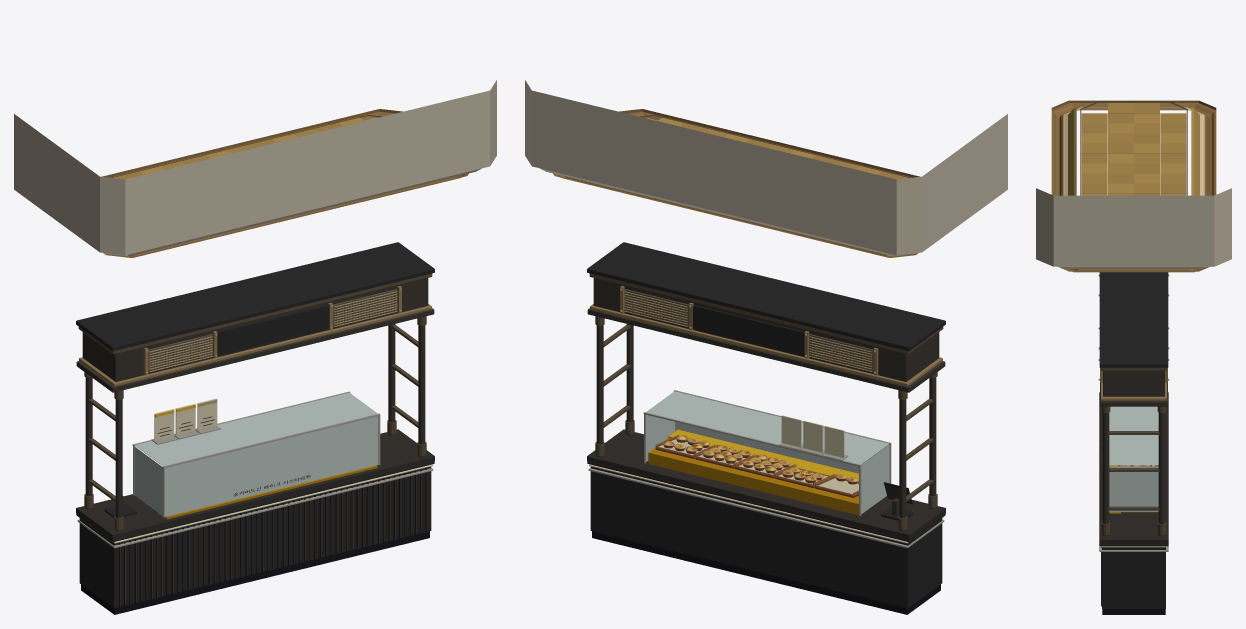
The model's file is counter.glb.
3 views of the same model, side by side, from view 1: azimuth 30°, elevation 25°; view 2: azimuth 150°, elevation 25°; view 3: azimuth 270°, elevation 25° (orthographic). The views are drawn at different scales.
Visible parts, largest first — view 1: GangnamBakeCounter, Glass; view 2: GangnamBakeCounter, Glass; view 3: GangnamBakeCounter, Glass.
Part boxes in pixels (x1,y1,x2,y2): GangnamBakeCounter: (14, 80, 496, 614); Glass: (134, 392, 378, 516); GangnamBakeCounter: (525, 80, 1007, 614); Glass: (646, 391, 889, 513); GangnamBakeCounter: (1036, 100, 1231, 614); Glass: (1109, 406, 1158, 511).
Size of the model in its own units: 4.43 by 4.99 by 2.02.
